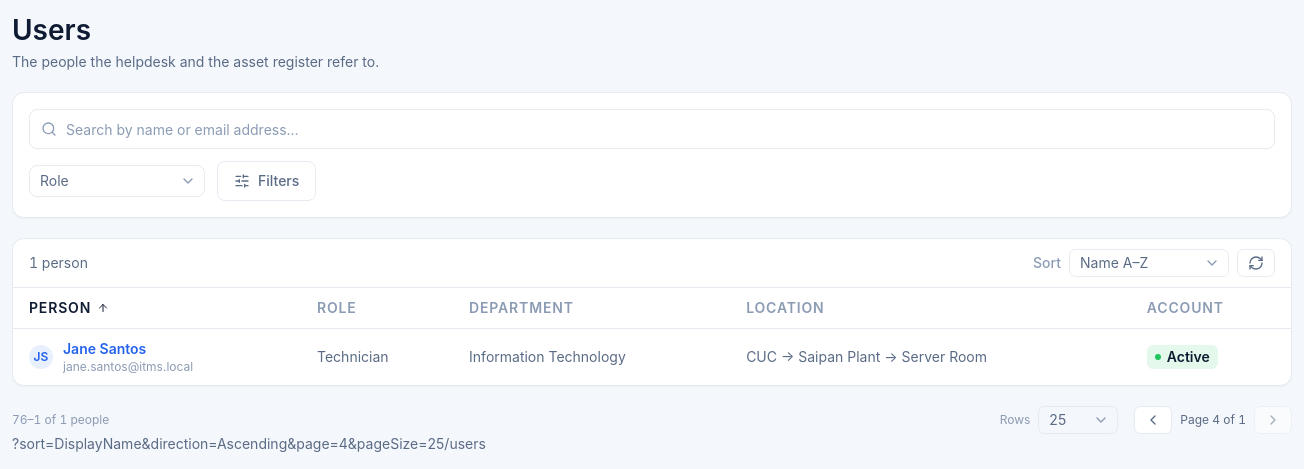
it: UsersPage › returns to page one when a filter moves
Check: the button "Jane Santos" is shown, box [63,338,146,358]
Step 1. Click the dropdown labelled "Role" → (117, 181), box [29,165,205,197]
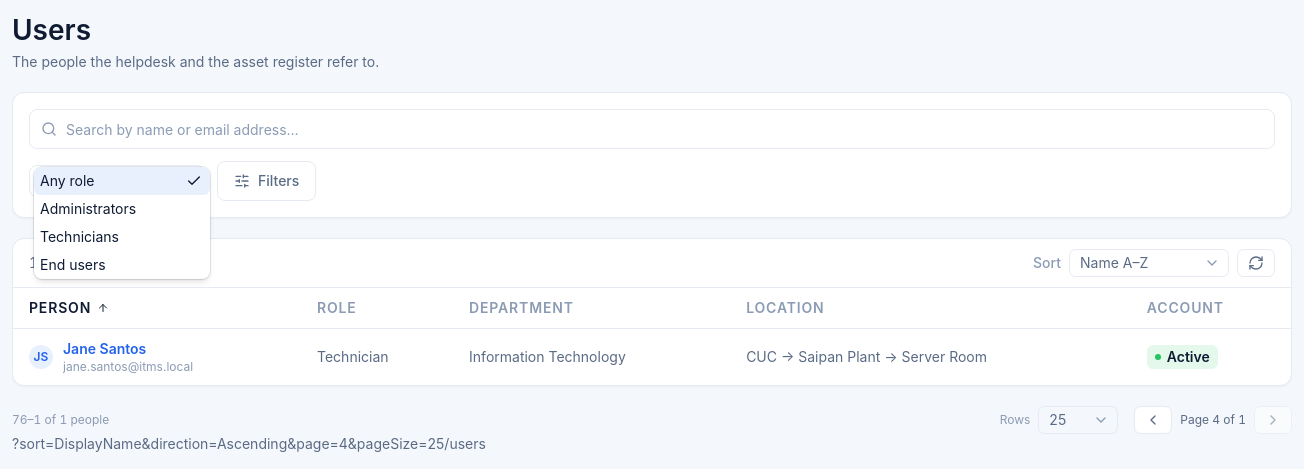
Step 2. Click the option "End users" → (73, 264), box [40,256,106,273]
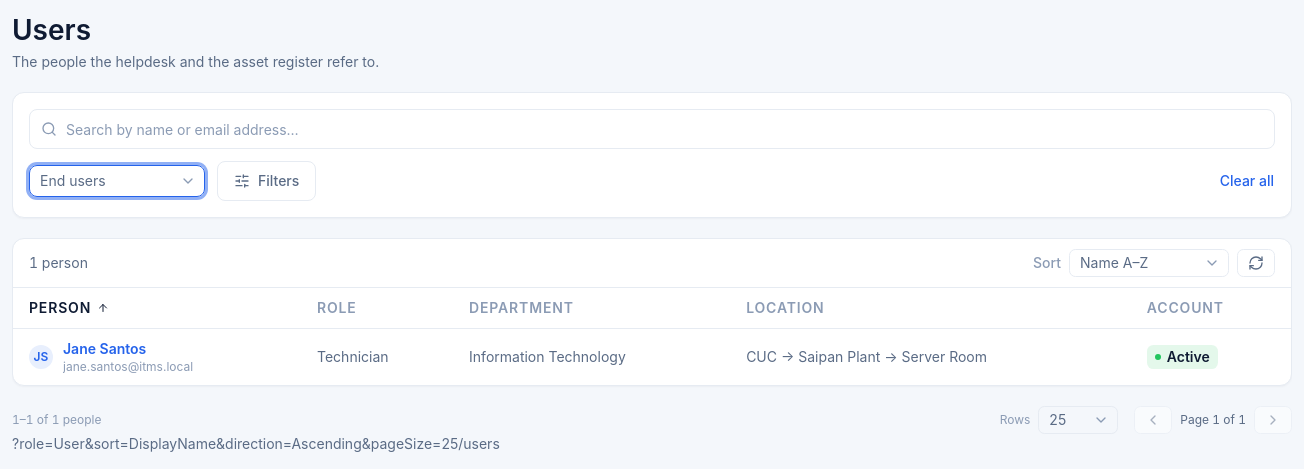
Check: the text with test id "address" no longer shows "page=4"
